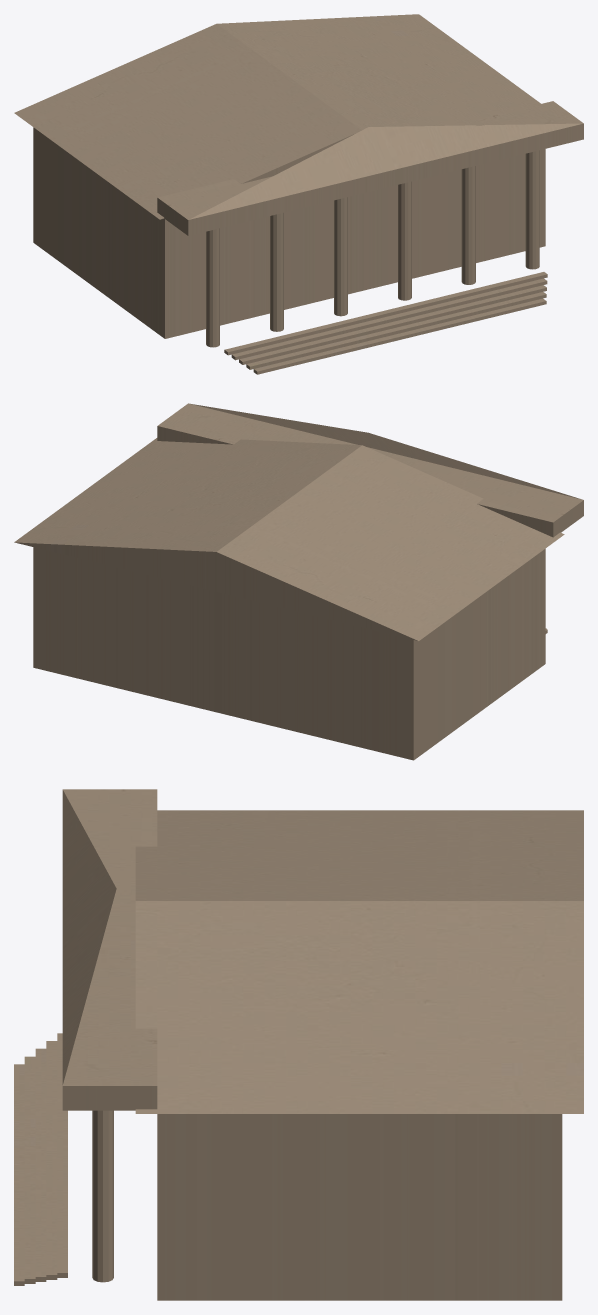
Rendered from government_building.glb.
3 renders of one model, top to bottom at view 1: azimuth 30°, elevation 25°; view 2: azimuth 150°, elevation 25°; view 3: azimuth 270°, elevation 25°, orthographic. The views are drawn at different scales.
Parts seen in each view (by area): view 1: GovernmentBuilding; view 2: GovernmentBuilding; view 3: GovernmentBuilding.
Boxes of the visible parts, bbox=[...] form: GovernmentBuilding: bbox=[14, 14, 583, 374]; GovernmentBuilding: bbox=[14, 403, 583, 760]; GovernmentBuilding: bbox=[14, 789, 583, 1300].
Bounding box in the file's own units: 26.6 × 11.8 × 21.1.
1 material, 1 textured.
